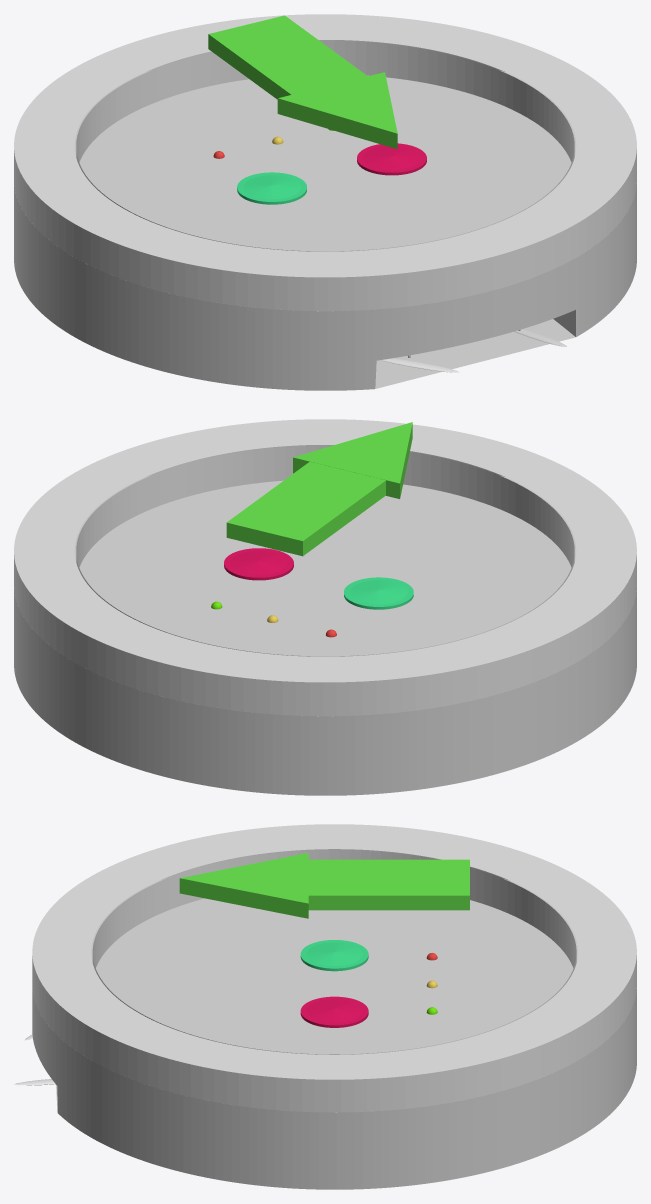
Rendered from пылисос5.fbx.
3 renders of one model, top to bottom at view 1: azimuth 30°, elevation 25°; view 2: azimuth 150°, elevation 25°; view 3: azimuth 270°, elevation 25°, orthographic. The views are drawn at different scales.
Visible parts, largest first — view 1: Cylinder, Cylinder.005, Cube.003, Cylinder.004, Cylinder.001; view 2: Cylinder, Cylinder.005, Cube.003, Cylinder.004, Cylinder.001; view 3: Cylinder, Cylinder.005, Cube.003, Cylinder.001, Cylinder.004.
Boxes of the visible parts, x1=… form: Cylinder: x1=14, y1=70, x2=636, y2=390; Cylinder.005: x1=14, y1=14, x2=636, y2=311; Cube.003: x1=208, y1=15, x2=397, y2=149; Cylinder.004: x1=237, y1=172, x2=306, y2=204; Cylinder.001: x1=357, y1=143, x2=426, y2=175; Cylinder: x1=14, y1=475, x2=636, y2=795; Cylinder.005: x1=14, y1=419, x2=636, y2=716; Cube.003: x1=226, y1=422, x2=412, y2=556; Cylinder.004: x1=344, y1=577, x2=413, y2=609; Cylinder.001: x1=224, y1=548, x2=293, y2=580; Cylinder: x1=32, y1=879, x2=636, y2=1189; Cylinder.005: x1=32, y1=824, x2=636, y2=1112; Cube.003: x1=179, y1=853, x2=469, y2=918; Cylinder.001: x1=300, y1=996, x2=368, y2=1027; Cylinder.004: x1=300, y1=940, x2=368, y2=971.
Bounding box in the file's own units: 200 × 65.76 × 206.
